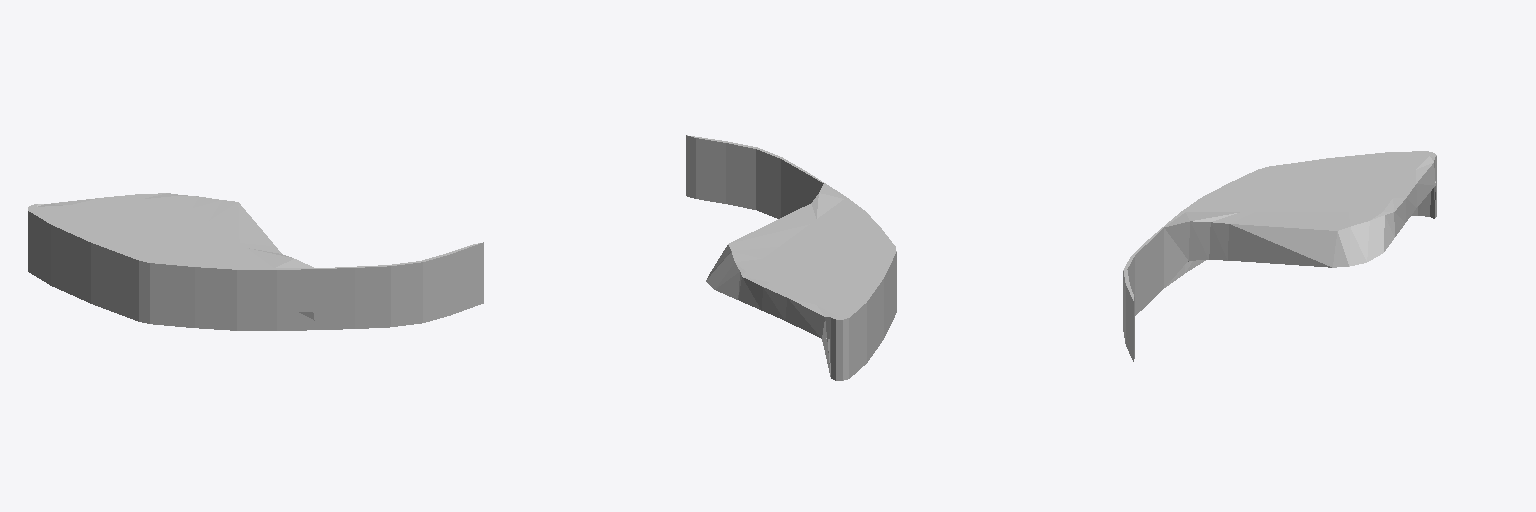
The model's file is Bucket Plastic v3.obj.
3 renders of one model, left to right at view 1: azimuth 30°, elevation 25°; view 2: azimuth 150°, elevation 25°; view 3: azimuth 270°, elevation 25°, orthographic.
Visible parts, largest first — view 1: Cube; view 2: Cube; view 3: Cube.
Boxes of the visible parts, <box> form: Cube: <box>28,193,483,330</box>; Cube: <box>686,135,896,380</box>; Cube: <box>1123,151,1436,361</box>.
Size of the model in its own units: 10.59 by 2.07 by 9.29.